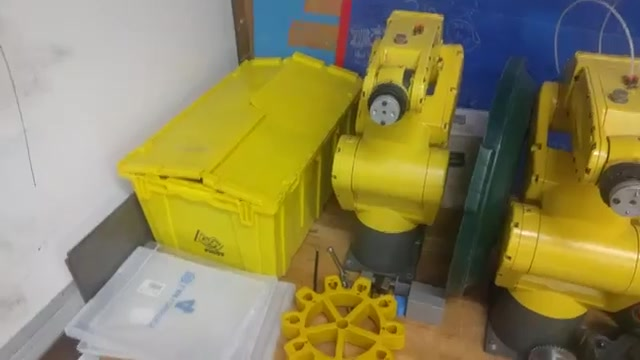gear: (275, 273, 402, 360)
